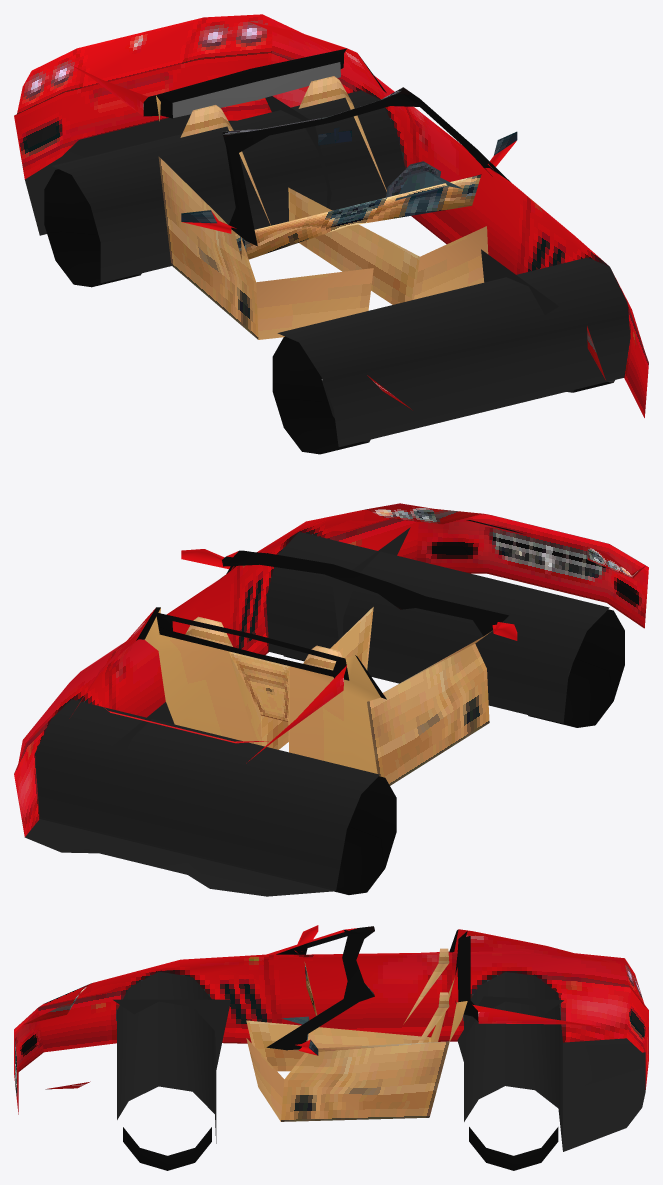
File: ps2_save-icons_outrun2006coast2coast.glb
The picture shows the model from 3 angles, top to bottom: view 1: azimuth 30°, elevation 25°; view 2: azimuth 150°, elevation 25°; view 3: azimuth 270°, elevation 25°; orthographic projection. The views are drawn at different scales.
Visible parts, largest first — view 1: icon.ico; view 2: icon.ico; view 3: icon.ico.
Boxes of the visible parts, x1,y1,x2,y2 form: icon.ico: [14, 14, 648, 454]; icon.ico: [14, 503, 648, 896]; icon.ico: [14, 925, 648, 1170].
Bounding box in the file's own units: 2.12 × 1.28 × 4.59.
1 material, 1 textured.
